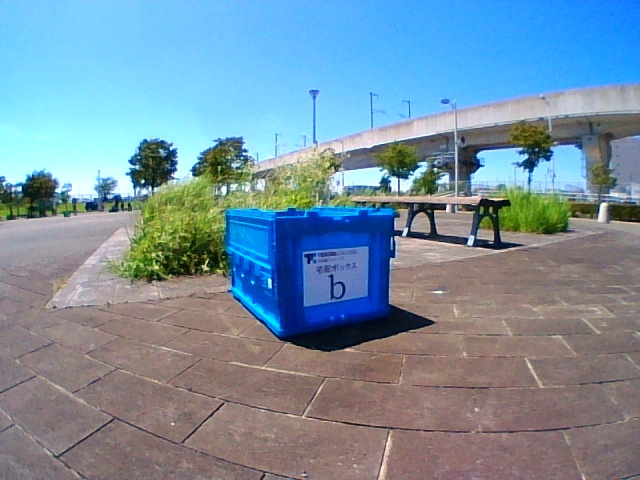blue_box: (253, 212, 387, 315)
tag_b: (321, 263, 353, 300)
